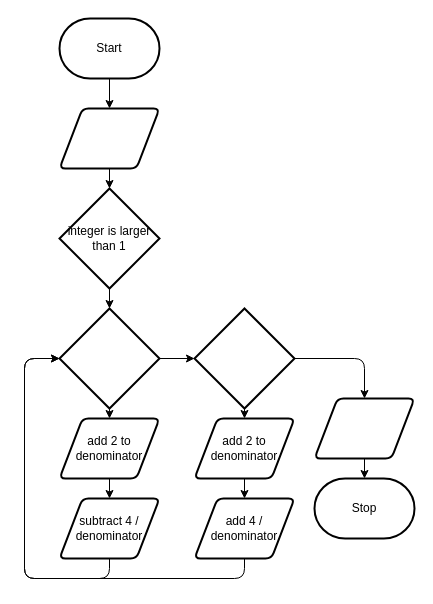
Some shapes in this 433 by 604 pixel diagram are drawn without their labels. The box of each missing label's shape, as (x1, y1, x2, y2) in pixels:
Enter number: (58, 107, 160, 169)
show answer: (313, 397, 415, 459)
sign is negative: (58, 307, 160, 409)
sign is positive: (193, 307, 295, 409)
